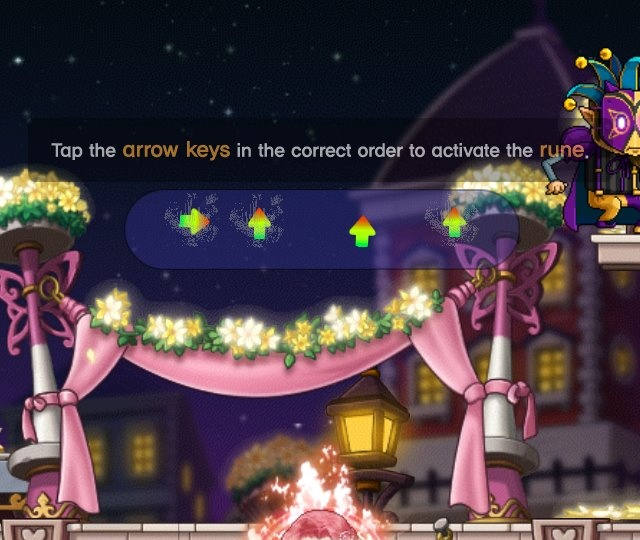rune_box: (118, 180, 531, 278)
